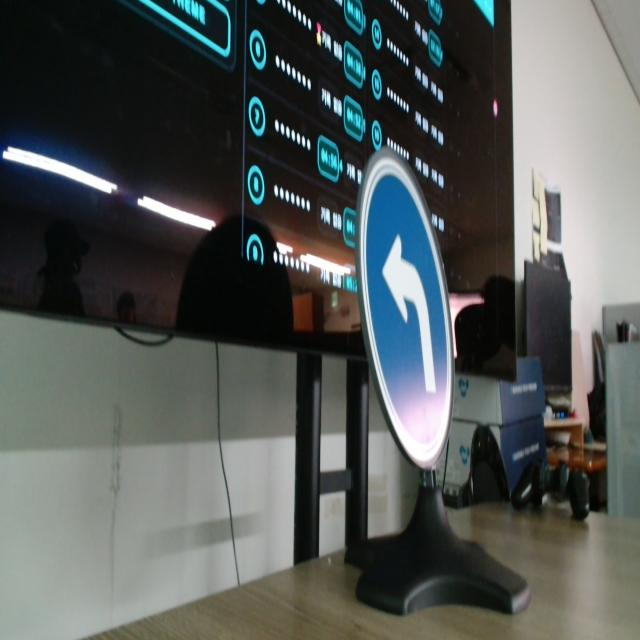left_direction: (347, 130, 455, 472)
